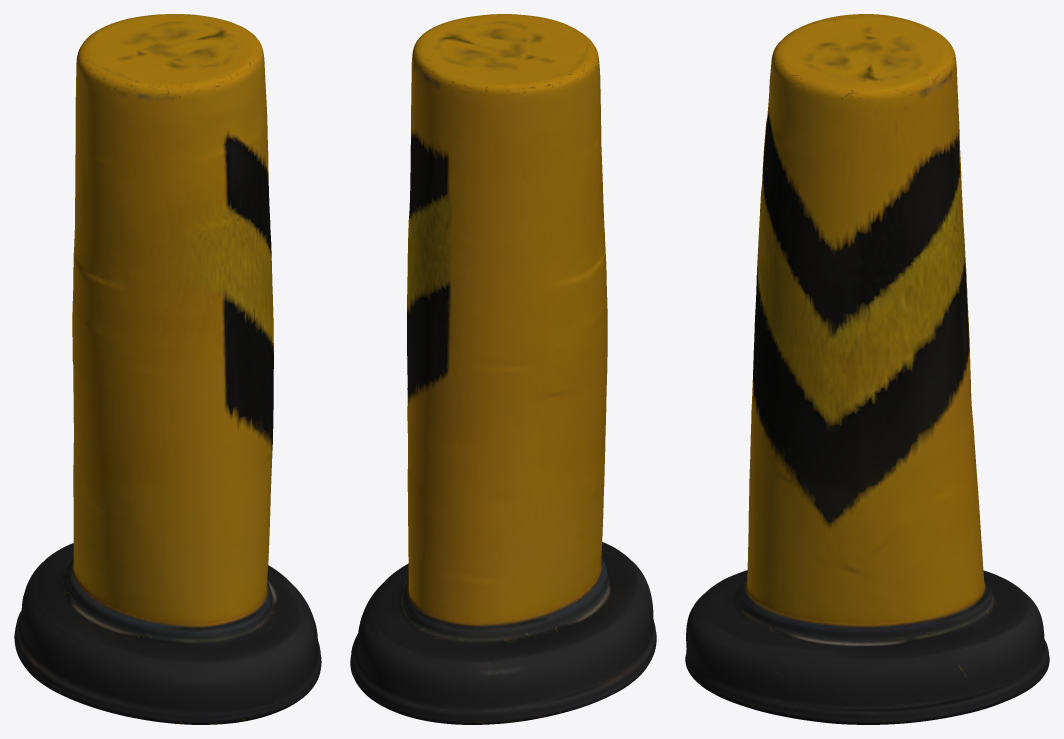
File: 6225707-traffic-cone.glb
The picture shows the model from 3 angles, left to right: view 1: azimuth 30°, elevation 25°; view 2: azimuth 150°, elevation 25°; view 3: azimuth 270°, elevation 25°; orthographic projection.
Visible parts, largest first — view 1: neural_node_ad9c0497-f6a8-44cb-bc35-c55ef2640a59; view 2: neural_node_ad9c0497-f6a8-44cb-bc35-c55ef2640a59; view 3: neural_node_ad9c0497-f6a8-44cb-bc35-c55ef2640a59.
Boxes of the visible parts, box(x1,y1,x2,y2) form: neural_node_ad9c0497-f6a8-44cb-bc35-c55ef2640a59: box(14, 14, 321, 724); neural_node_ad9c0497-f6a8-44cb-bc35-c55ef2640a59: box(350, 14, 656, 724); neural_node_ad9c0497-f6a8-44cb-bc35-c55ef2640a59: box(685, 14, 1049, 724).
Size of the model in its own units: 0.4174 by 0.9494 by 0.5103.
